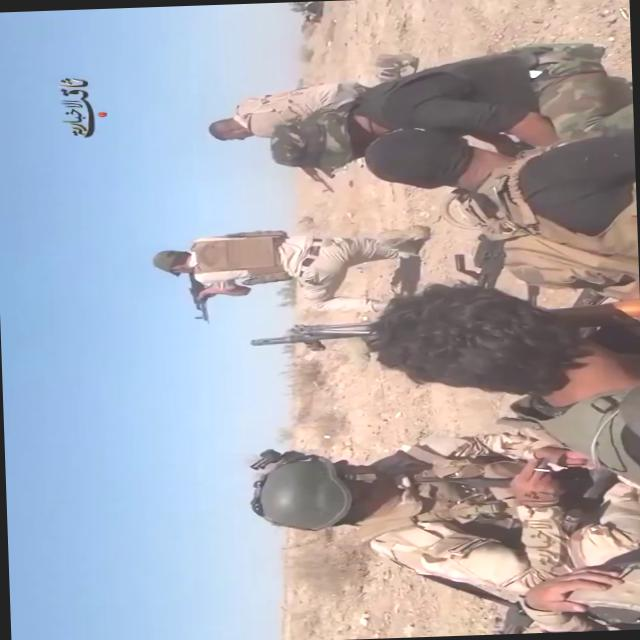long weapon: (170, 268, 230, 326)
